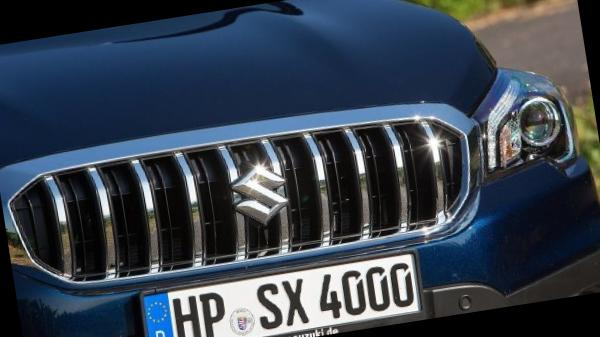plate: (131, 239, 439, 337)
